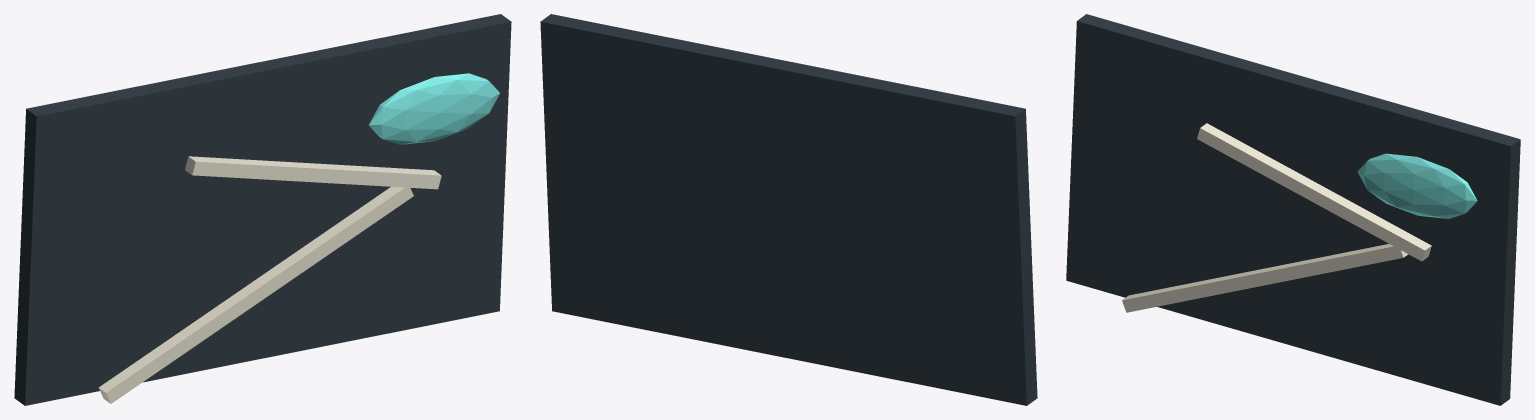
The model's file is 01_weathering_wear_overlay_1.glb.
3 views of the same model, side by side, from view 1: azimuth 30°, elevation 25°; view 2: azimuth 150°, elevation 25°; view 3: azimuth 330°, elevation 25° (orthographic). The views are drawn at different scales.
Visible parts, largest first — view 1: wear_plate, scratch_a, rust_or_moss_spot, scratch_b; view 2: wear_plate; view 3: wear_plate, rust_or_moss_spot, scratch_b, scratch_a.
Boxes of the visible parts, <box> form: wear_plate: <box>14,14,511,405</box>; scratch_a: <box>98,186,413,403</box>; rust_or_moss_spot: <box>369,73,499,144</box>; scratch_b: <box>185,156,441,189</box>; wear_plate: <box>540,14,1037,405</box>; wear_plate: <box>1066,14,1520,405</box>; rust_or_moss_spot: <box>1357,153,1477,218</box>; scratch_b: <box>1197,123,1431,261</box>; scratch_a: <box>1122,244,1408,312</box>.
Size of the model in its own units: 1.33 by 0.8046 by 0.134.
